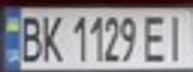1: (84, 11, 106, 62), (66, 11, 87, 62)
2: (103, 12, 124, 63)
9: (118, 12, 142, 63)
B: (15, 11, 45, 63)
E: (139, 11, 172, 63)
I: (163, 11, 193, 63)
K: (36, 11, 66, 63)
